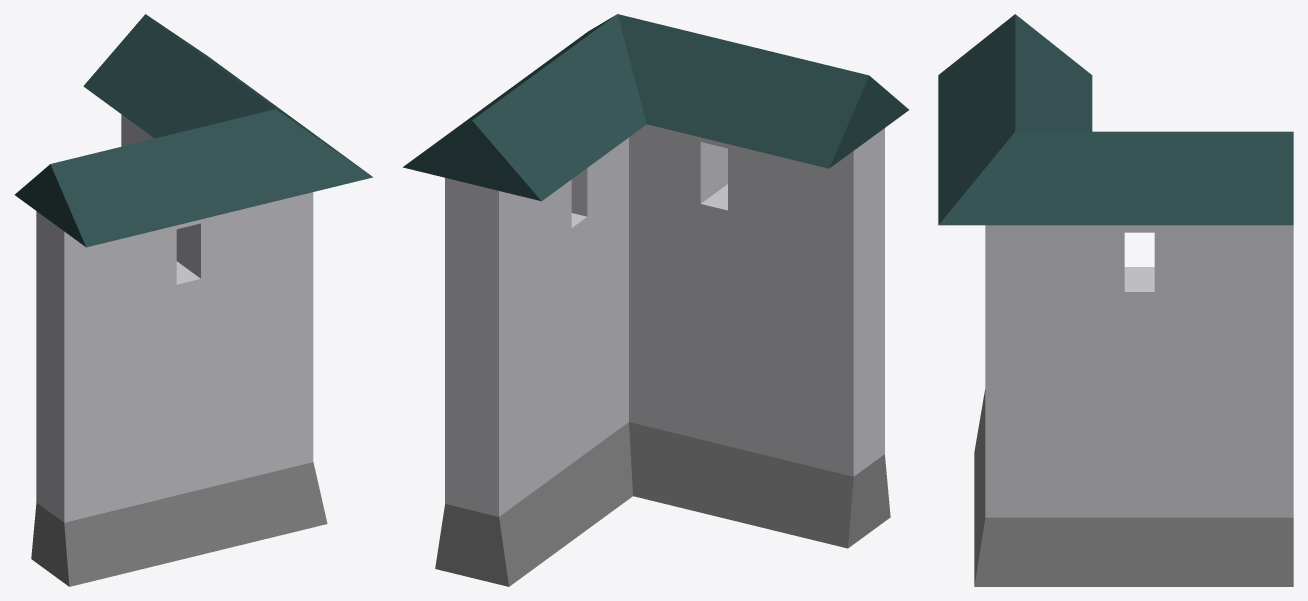
The model's file is Asian_Prop_Building_Fence_Wall_Simple_Corner_Embrasure_01.FBX.
3 renders of one model, left to right at view 1: azimuth 30°, elevation 25°; view 2: azimuth 150°, elevation 25°; view 3: azimuth 270°, elevation 25°, orthographic. The views are drawn at different scales.
Parts seen in each view (by area): view 1: Asian_Prop_Building_Fence_Wall_Simple_Corner_Embrasure_01; view 2: Asian_Prop_Building_Fence_Wall_Simple_Corner_Embrasure_01; view 3: Asian_Prop_Building_Fence_Wall_Simple_Corner_Embrasure_01.
Part boxes in pixels (x1,y1,x2,y2): Asian_Prop_Building_Fence_Wall_Simple_Corner_Embrasure_01: [14, 14, 372, 586]; Asian_Prop_Building_Fence_Wall_Simple_Corner_Embrasure_01: [403, 14, 908, 586]; Asian_Prop_Building_Fence_Wall_Simple_Corner_Embrasure_01: [938, 14, 1293, 586].
Bounding box in the file's own units: 2979 × 4051 × 2979.
